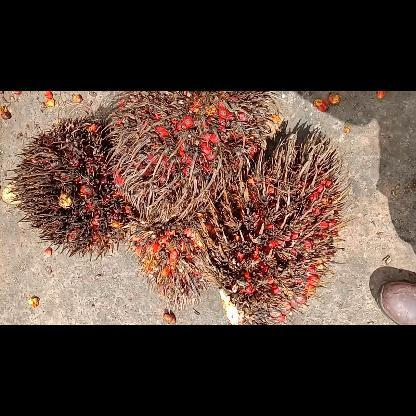Terlalu masak: (199, 124, 359, 324), (100, 90, 288, 226), (0, 110, 150, 262), (126, 208, 220, 316)
